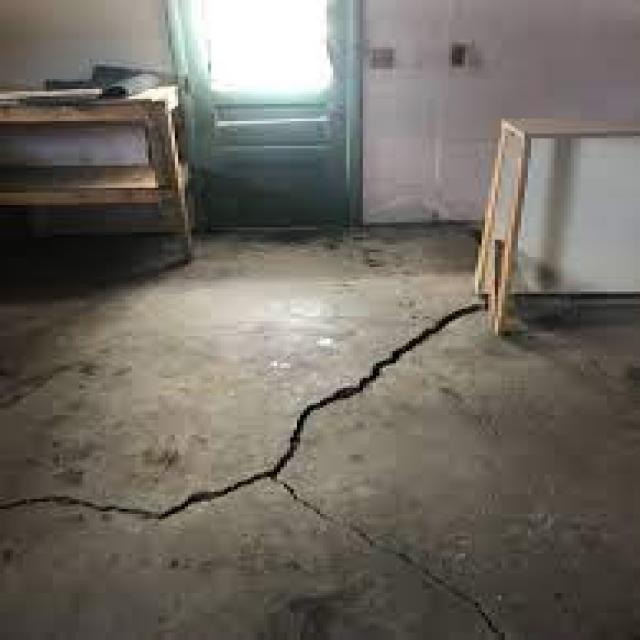branched cracks: (0, 301, 511, 639)
